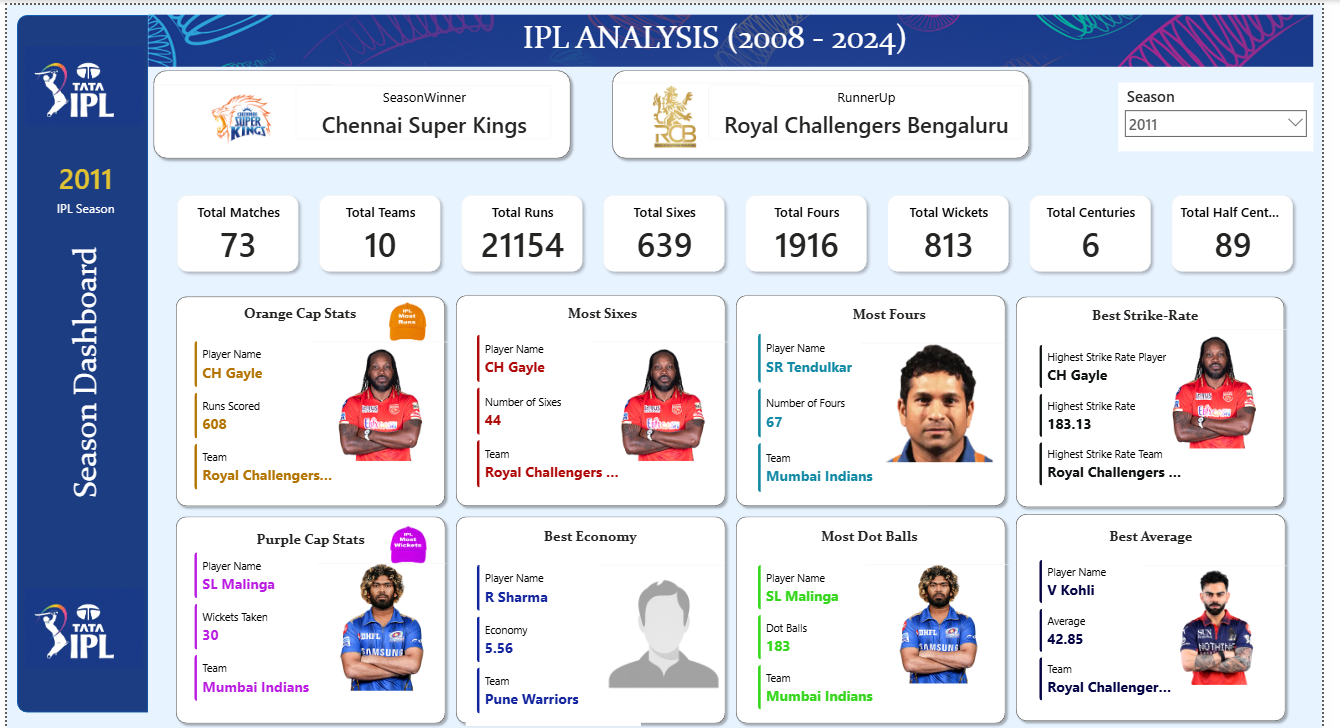

Layout of this report page (visuals, bound fields, positions):
{"tool":"powerbi","page":{"name":"Season Dashboard","canvas":[2000,1100],"ordinal":0},"visuals":[{"type":"shape","box":[1100.4,769.7,425.7,330.7],"z":0},{"type":"shape","box":[15.2,15.2,199.6,1060.5],"z":1000},{"type":"shape","box":[249,769.7,425.7,330.7],"z":2000},{"type":"shape","box":[249,435.2,425,335],"z":3000},{"type":"shape","box":[912.2,91.2,682.3,150.1],"z":4000},{"type":"shape","box":[214.8,91.2,650,150.1],"z":5000},{"type":"cardVisual","fields":{"Data":["ipl_analysis matches.SeasonWinner"]},"box":[421.9,104.5,423.8,117.8],"z":6000},{"type":"image","box":[214.8,1.9,1771.3,104.5],"z":7000},{"type":"textbox","box":[779.2,15.2,600.6,76],"z":8000},{"type":"slicer","fields":{"Values":["ipl_analysis matches.season"]},"box":[1689.5,117.8,296.5,104.5],"z":9000},{"type":"cardVisual","fields":{"Data":["ipl_analysis matches.SeasonWinnerLogo"]},"box":[201.5,0,311.7,241.4],"z":10000},{"type":"cardVisual","fields":{"Data":["ipl_analysis matches.RunnerUp"]},"box":[1049.1,104.5,513.1,117.8],"z":11000},{"type":"cardVisual","fields":{"Data":["ipl_analysis matches.RunnerUp Logo"]},"box":[864.1,0,300.2,238],"z":12000},{"type":"cardVisual","fields":{"Data":["ipl_analysis matches.Total Matches","ipl_analysis matches.Total Teams","ipl_analysis matches.Total Runs","ipl_analysis matches.Total Sixes","ipl_analysis matches.Total Fours","ipl_analysis matches.Total Wickets","ipl_analysis matches.Total Centuries","ipl_analysis matches.Total Half Centuries"]},"box":[230,260.4,1756.1,174.8],"z":13000},{"type":"cardVisual","fields":{"Data":["ipl_analysis matches.Orange Cap Player","ipl_analysis matches.Orange Cap Runs","ipl_analysis matches.Orange Cap Team"]},"box":[268,494.1,258.5,260.4],"z":14000},{"type":"textbox","box":[355.4,450.4,214.8,43.7],"z":15000},{"type":"cardVisual","fields":{"Data":["ipl_analysis matches.Orange Cap Player Image"]},"box":[442.8,313.6,254.7,397.2],"z":16000},{"type":"image","box":[570.1,450.4,77.9,62.7],"z":17000},{"type":"cardVisual","fields":{"Data":["ipl_analysis matches.Purple Cap Bowler","ipl_analysis matches.Purple Cap Wickets","ipl_analysis matches.Purple Cap Team"]},"box":[268,815.3,287,260.4],"z":18000},{"type":"textbox","box":[374.4,794.4,178.6,39.9],"z":19000},{"type":"image","box":[573.9,790.6,74.1,60.8],"z":20000},{"type":"cardVisual","fields":{"Data":["ipl_analysis matches.Purple Cap Bowler"]},"box":[454.2,636.7,231.9,423.8],"z":21000},{"type":"shape","box":[674.7,433.3,425.7,336.4],"z":22000},{"type":"cardVisual","fields":{"Data":["ipl_analysis matches.Most Sixes Player","ipl_analysis matches.Most Sixes","ipl_analysis matches.Most Sixes Team"]},"box":[697.5,484.6,275.6,266.1],"z":23000},{"type":"textbox","box":[841.9,450.4,127.3,47.5],"z":24000},{"type":"cardVisual","fields":{"Data":["ipl_analysis matches.Most Sixes Player Image"]},"box":[872.3,313.6,254.7,397.2],"z":25000},{"type":"shape","box":[1100.4,433.3,425.7,336.4],"z":26000},{"type":"cardVisual","fields":{"Data":["ipl_analysis matches.Most Fours Player","ipl_analysis matches.Most Fours","ipl_analysis matches.Most Fours Team"]},"box":[1125.1,482.7,273.7,277.5],"z":27000},{"type":"textbox","box":[1280.9,452.3,134.9,47.5],"z":28000},{"type":"cardVisual","fields":{"Data":["ipl_analysis matches.Most Fours Player Image"]},"box":[1280.9,315.5,254.7,397.2],"z":29000},{"type":"shape","box":[1526.1,435.2,423.8,336.4],"z":30000},{"type":"cardVisual","fields":{"Data":["ipl_analysis matches.Highest Strike Rate Player","ipl_analysis matches.Highest Strike Rate","ipl_analysis matches.Highest Strike Rate Team"]},"box":[1552.7,499.8,271.8,250.9],"z":31000},{"type":"cardVisual","fields":{"Data":["ipl_analysis matches.Highest Strike Rate Player Image"]},"box":[1710.4,294.6,254.7,397.2],"z":32000},{"type":"textbox","box":[1636.3,454.2,188.1,39.9],"z":33000},{"type":"shape","box":[674.7,769.7,425.7,330.7],"z":34000},{"type":"cardVisual","fields":{"Data":["ipl_analysis matches.Best Economy Bowler","ipl_analysis matches.Best Economy","ipl_analysis matches.Best Economy Team"]},"box":[697.5,834.3,266.1,262.3],"z":35000},{"type":"cardVisual","fields":{"Data":["ipl_analysis matches.Best Economy Player Image"]},"box":[887.5,627.2,220.5,448.5],"z":36000},{"type":"textbox","box":[798.2,790.6,176.7,51.3],"z":37000},{"type":"cardVisual","fields":{"Data":["ipl_analysis matches.Most Dot Balls Player Name","ipl_analysis matches.Most Dot Balls","ipl_analysis matches.Most Dot Balls Team"]},"box":[1125.1,834.3,254.7,254.7],"z":38000},{"type":"textbox","box":[1223.9,790.6,174.8,36.1],"z":39000},{"type":"cardVisual","fields":{"Data":["ipl_analysis matches.Most Dot Balls Player Image"]},"box":[1288.5,651.9,254.7,397.2],"z":40000},{"type":"shape","box":[1526.1,765.9,425.7,330.7],"z":41000},{"type":"cardVisual","fields":{"Data":["ipl_analysis matches.Best Average Player","ipl_analysis matches.Best Average","ipl_analysis matches.Best Average Team"]},"box":[1552.7,826.7,254.7,249],"z":42000},{"type":"textbox","box":[1653.4,790.6,171,36.1],"z":43000},{"type":"cardVisual","fields":{"Data":["ipl_analysis matches.Best Average Player Image"]},"box":[1710.4,653.8,254.7,397.2],"z":44000},{"type":"shape","box":[36.1,326.9,165.3,463.7],"z":45000},{"type":"image","box":[26.6,55.1,180.5,138.7],"z":46000},{"type":"cardVisual","fields":{"Data":["ipl_analysis matches.IPL Season"]},"box":[36.1,207.2,167.2,140.6],"z":47000},{"type":"image","box":[26.6,878,180.5,138.7],"z":48000}]}

Visuals, with their boxes in screenshot pixels (x1, y1, x2, y2), scaled from the page's 2000x1100 canvas onto the 1340x728 screenshot:
shape: [737, 509, 1022, 727]
shape: [10, 10, 144, 712]
shape: [167, 509, 452, 727]
shape: [167, 288, 452, 510]
shape: [611, 60, 1068, 160]
shape: [144, 60, 579, 160]
cardVisual - ipl_analysis matches.SeasonWinner: [283, 69, 567, 147]
image: [144, 1, 1331, 70]
textbox: [522, 10, 924, 60]
slicer - ipl_analysis matches.season: [1132, 78, 1331, 147]
cardVisual - ipl_analysis matches.SeasonWinnerLogo: [135, 0, 344, 160]
cardVisual - ipl_analysis matches.RunnerUp: [703, 69, 1047, 147]
cardVisual - ipl_analysis matches.RunnerUp Logo: [579, 0, 780, 158]
cardVisual - ipl_analysis matches.Total Matches x ipl_analysis matches.Total Teams: [154, 172, 1331, 288]
cardVisual - ipl_analysis matches.Orange Cap Player x ipl_analysis matches.Orange Cap Runs: [180, 327, 353, 499]
textbox: [238, 298, 382, 327]
cardVisual - ipl_analysis matches.Orange Cap Player Image: [297, 208, 467, 470]
image: [382, 298, 434, 340]
cardVisual - ipl_analysis matches.Purple Cap Bowler x ipl_analysis matches.Purple Cap Wickets: [180, 540, 372, 712]
textbox: [251, 526, 371, 552]
image: [385, 523, 434, 563]
cardVisual - ipl_analysis matches.Purple Cap Bowler: [304, 421, 460, 702]
shape: [452, 287, 737, 509]
cardVisual - ipl_analysis matches.Most Sixes Player x ipl_analysis matches.Most Sixes: [467, 321, 652, 497]
textbox: [564, 298, 649, 330]
cardVisual - ipl_analysis matches.Most Sixes Player Image: [584, 208, 755, 470]
shape: [737, 287, 1022, 509]
cardVisual - ipl_analysis matches.Most Fours Player x ipl_analysis matches.Most Fours: [754, 319, 937, 503]
textbox: [858, 299, 949, 331]
cardVisual - ipl_analysis matches.Most Fours Player Image: [858, 209, 1029, 472]
shape: [1022, 288, 1306, 511]
cardVisual - ipl_analysis matches.Highest Strike Rate Player x ipl_analysis matches.Highest Strike Rate: [1040, 331, 1222, 497]
cardVisual - ipl_analysis matches.Highest Strike Rate Player Image: [1146, 195, 1317, 458]
textbox: [1096, 301, 1222, 327]
shape: [452, 509, 737, 727]
cardVisual - ipl_analysis matches.Best Economy Bowler x ipl_analysis matches.Best Economy: [467, 552, 646, 726]
cardVisual - ipl_analysis matches.Best Economy Player Image: [595, 415, 742, 712]
textbox: [535, 523, 653, 557]
cardVisual - ipl_analysis matches.Most Dot Balls Player Name x ipl_analysis matches.Most Dot Balls: [754, 552, 924, 721]
textbox: [820, 523, 937, 547]
cardVisual - ipl_analysis matches.Most Dot Balls Player Image: [863, 431, 1034, 694]
shape: [1022, 507, 1308, 726]
cardVisual - ipl_analysis matches.Best Average Player x ipl_analysis matches.Best Average: [1040, 547, 1211, 712]
textbox: [1108, 523, 1222, 547]
cardVisual - ipl_analysis matches.Best Average Player Image: [1146, 433, 1317, 696]
shape: [24, 216, 135, 523]
image: [18, 36, 139, 128]
cardVisual - ipl_analysis matches.IPL Season: [24, 137, 136, 230]
image: [18, 581, 139, 673]
